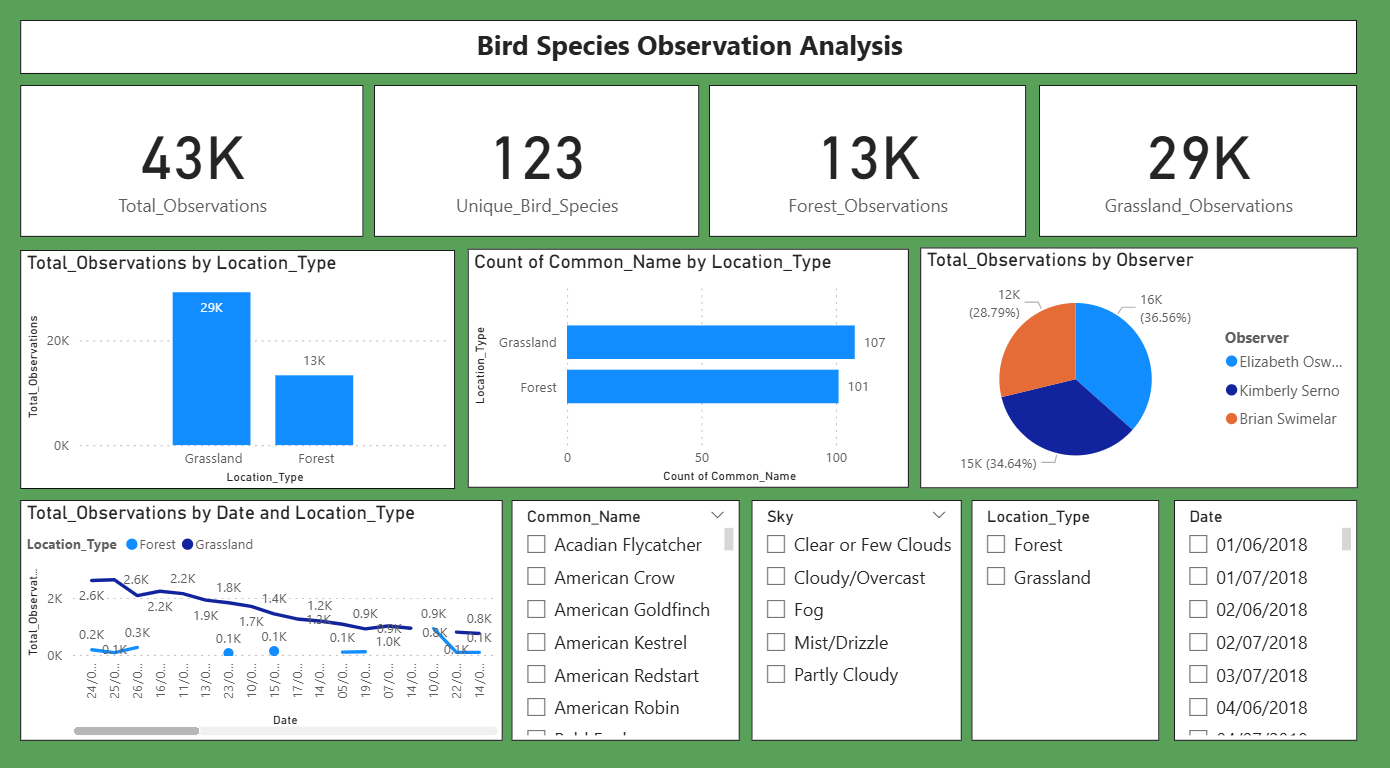

This screenshot's page, from the dashboard's own definition file:
{"tool":"powerbi","page":{"name":"Page 2","canvas":[1280,720],"ordinal":1},"visuals":[{"type":"card","fields":{"Values":["Bird_Species_Data.Total_Observations"]},"box":[18.8,107.1,305.9,135.3],"z":0},{"type":"card","fields":{"Values":["Bird_Species_Data.Unique_Species"]},"box":[334.1,107.1,289.4,135.3],"z":1},{"type":"card","fields":{"Values":["Bird_Species_Data.Forest_Observations"]},"box":[631.8,107.1,282.4,135.3],"z":2},{"type":"card","fields":{"Values":["Bird_Species_Data.Grassland_Observations"]},"box":[925.9,107.1,283.5,135.3],"z":3},{"type":"columnChart","fields":{"Category":["Bird_Species_Data.Location_Type"],"Y":["Bird_Species_Data.Total_Observations"]},"box":[18.8,254.1,387.1,212.9],"z":4},{"type":"clusteredBarChart","fields":{"Category":["Bird_Species_Data.Location_Type"],"Y":["Bird_Species_Data.Common_Name"]},"box":[417.6,252.9,392.9,212.9],"z":5},{"type":"lineChart","fields":{"Category":["Bird_Species_Data.Date"],"Y":["Bird_Species_Data.Total_Observations"],"Series":["Bird_Species_Data.Location_Type"]},"box":[18.8,476.5,429.4,214.1],"z":6},{"type":"pieChart","fields":{"Category":["Bird_Species_Data.Observer"],"Y":["Bird_Species_Data.Total_Observations"]},"box":[820,251.8,389.4,214.1],"z":7},{"type":"slicer","fields":{"Values":["Bird_Species_Data.Common_Name"]},"box":[456.5,476.5,203.5,214.1],"z":8},{"type":"slicer","fields":{"Values":["Bird_Species_Data.Sky"]},"box":[670.6,476.5,187.1,214.1],"z":9},{"type":"slicer","fields":{"Values":["Bird_Species_Data.Location_Type"]},"box":[865.9,476.5,167.1,214.1],"z":10},{"type":"slicer","fields":{"Values":["Bird_Species_Data.Date"]},"box":[1045.9,476.5,163.5,214.1],"z":11},{"type":"textbox","box":[18.8,49.4,1190.6,48.2],"z":12}]}

Visuals, with their boxes in screenshot pixels (x1, y1, x2, y2), scaled from the page's 1280x720 canvas onto the 1390x768 screenshot:
card - Bird_Species_Data.Total_Observations: 20/114/353/259
card - Bird_Species_Data.Unique_Species: 363/114/677/259
card - Bird_Species_Data.Forest_Observations: 686/114/993/259
card - Bird_Species_Data.Grassland_Observations: 1005/114/1313/259
columnChart - Bird_Species_Data.Location_Type x Bird_Species_Data.Total_Observations: 20/271/441/498
clusteredBarChart - Bird_Species_Data.Location_Type x Bird_Species_Data.Common_Name: 453/270/880/497
lineChart - Bird_Species_Data.Date x Bird_Species_Data.Total_Observations: 20/508/487/737
pieChart - Bird_Species_Data.Observer x Bird_Species_Data.Total_Observations: 890/269/1313/497
slicer - Bird_Species_Data.Common_Name: 496/508/717/737
slicer - Bird_Species_Data.Sky: 728/508/931/737
slicer - Bird_Species_Data.Location_Type: 940/508/1122/737
slicer - Bird_Species_Data.Date: 1136/508/1313/737
textbox: 20/53/1313/104
